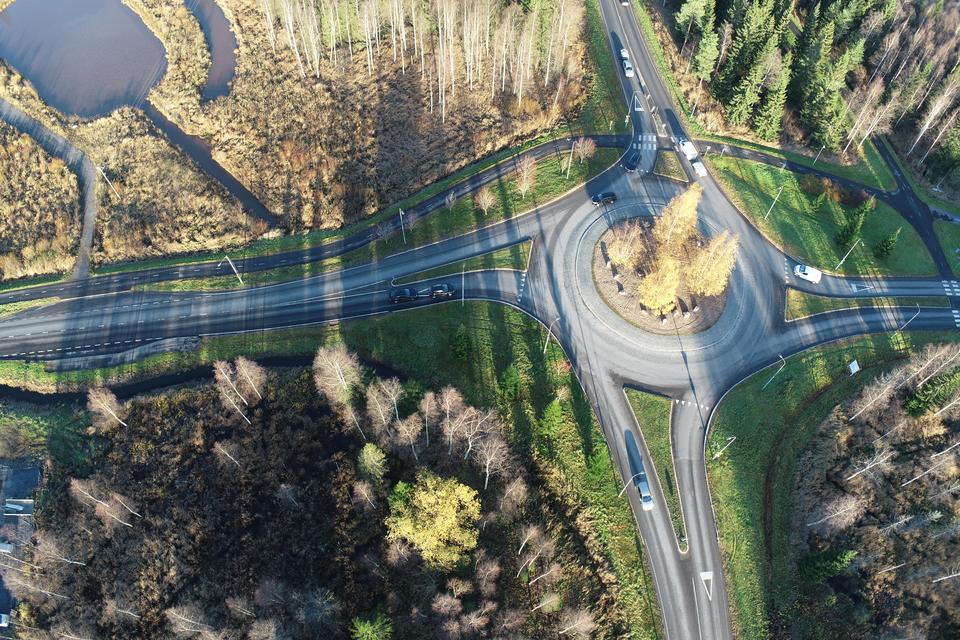intersection: (56, 229, 114, 345), (612, 122, 722, 157), (928, 260, 960, 371)
roundabout: (501, 166, 821, 434)
